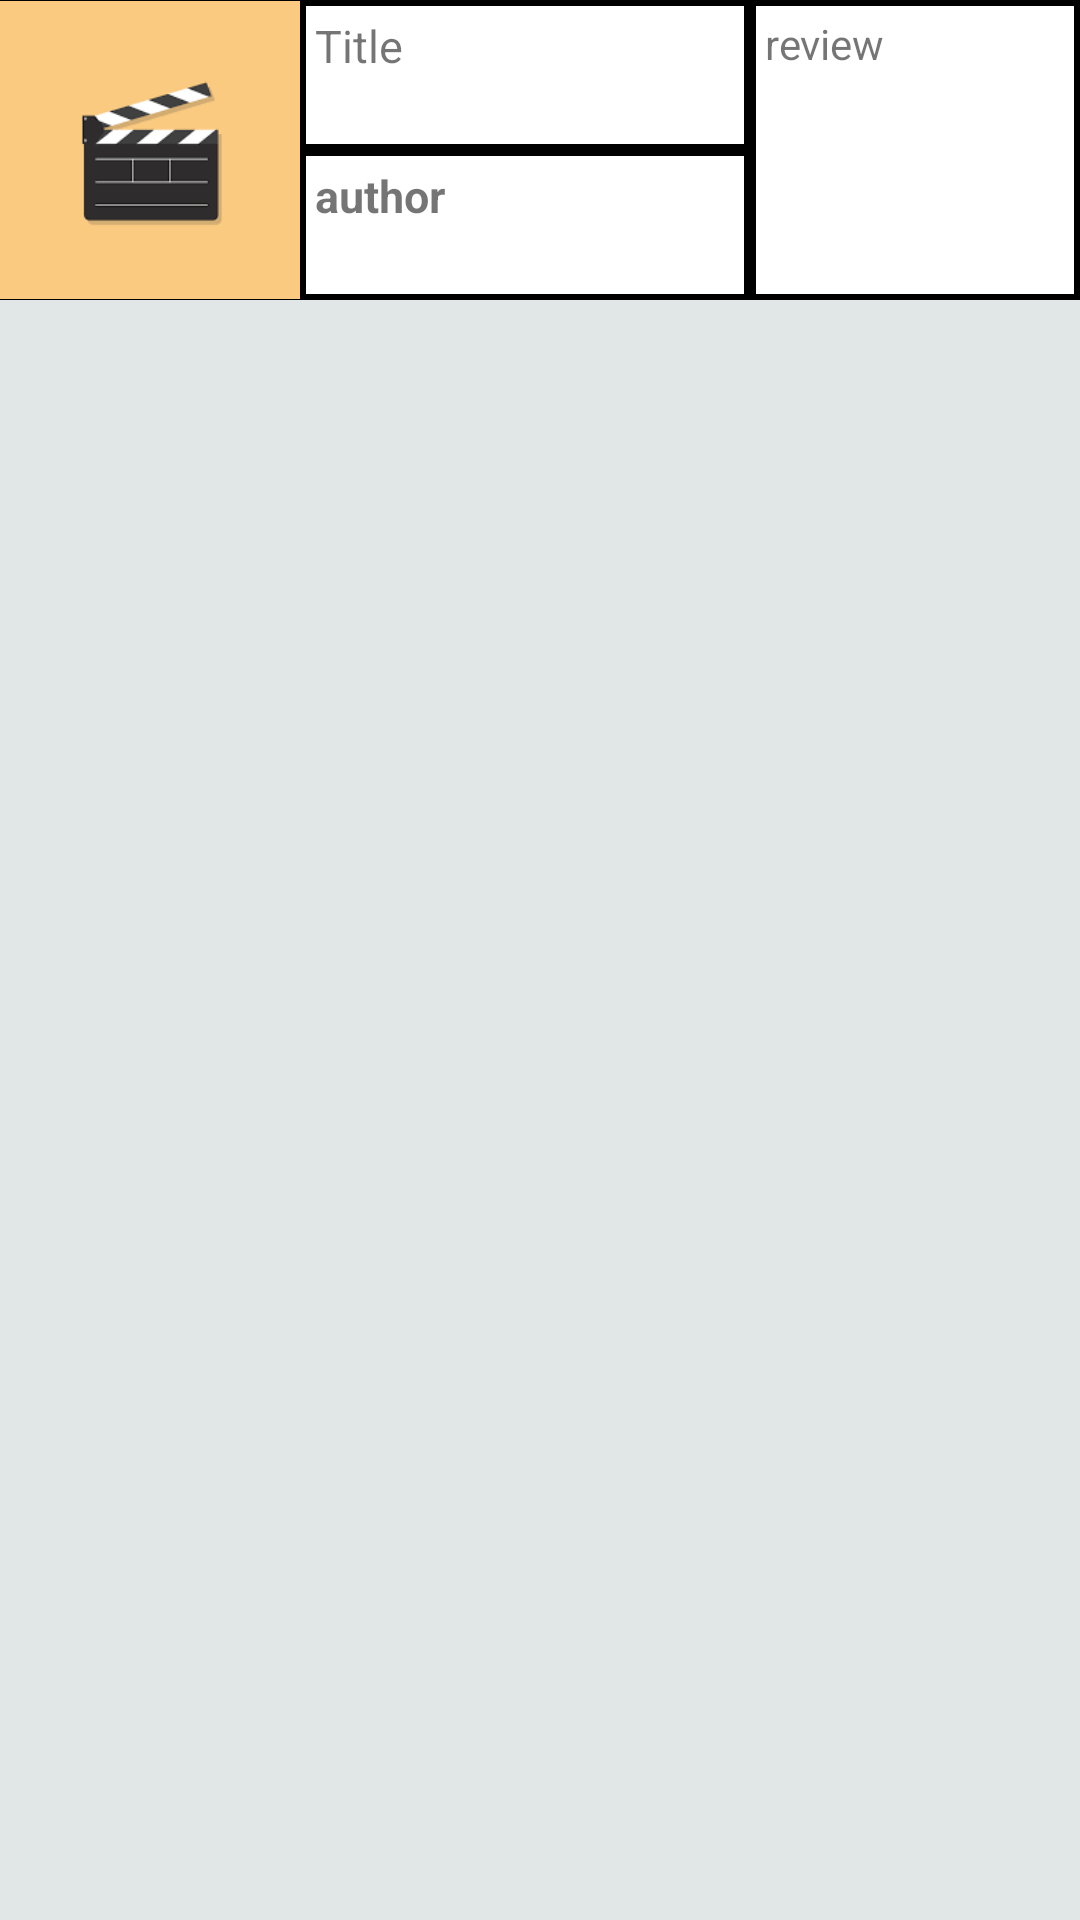

Screen size 1080px×1920px. Icon name, then its center in pixels as (x=x, y=y):
movie: (x=150, y=150)
